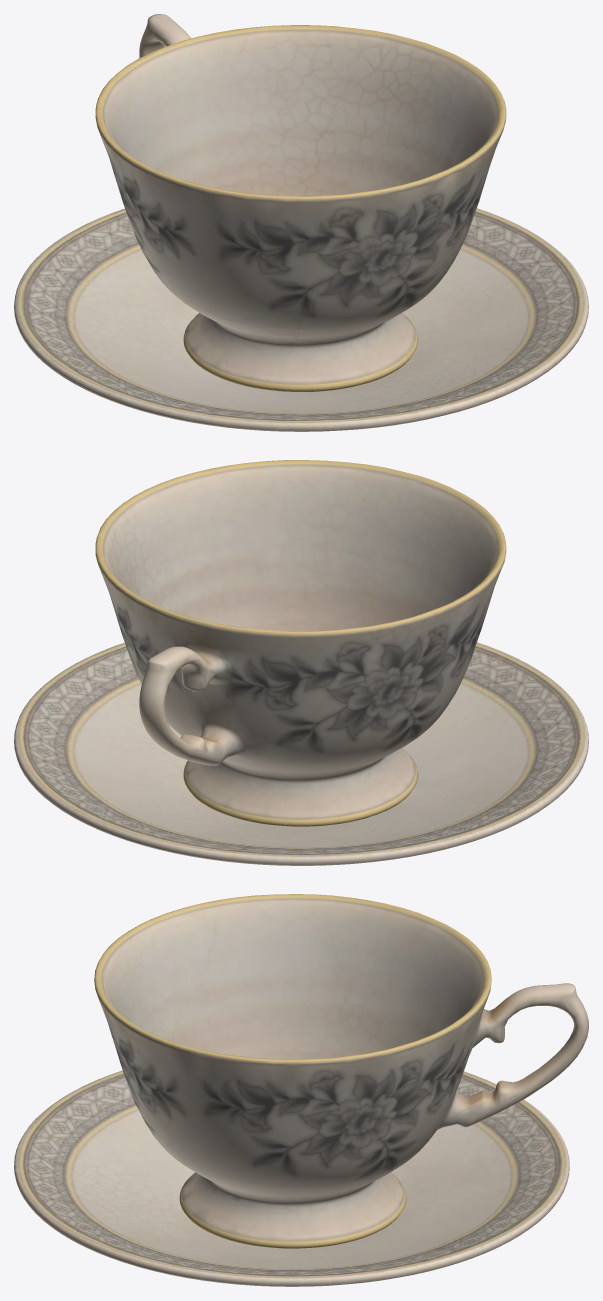
The model's file is cup.glb.
3 views of the same model, one above another, from view 1: azimuth 30°, elevation 25°; view 2: azimuth 150°, elevation 25°; view 3: azimuth 270°, elevation 25° (orthographic). The views are drawn at different scales.
Parts seen in each view (by area): view 1: tea_cup, tea_saucer; view 2: tea_cup, tea_saucer; view 3: tea_cup, tea_saucer.
Boxes of the visible parts, x1,y1,x2,y2 form: tea_cup: (95, 14, 506, 391); tea_saucer: (14, 208, 588, 431); tea_cup: (95, 460, 506, 826); tea_saucer: (14, 642, 588, 865); tea_cup: (94, 894, 588, 1248); tea_saucer: (14, 1070, 569, 1286).
Size of the model in its own units: 0.1486 by 0.0704 by 0.1537.
Materials: 2 (2 with a texture image).
